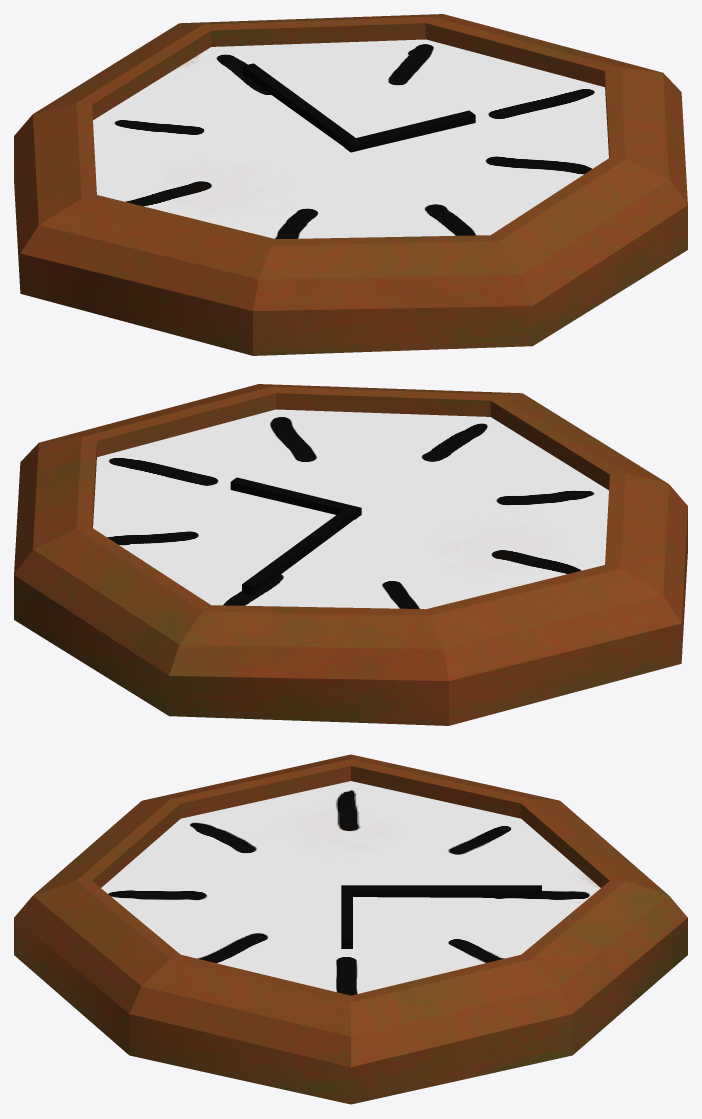
The model's file is Klock.fbx.
The picture shows the model from 3 angles, top to bottom: view 1: azimuth 30°, elevation 25°; view 2: azimuth 150°, elevation 25°; view 3: azimuth 270°, elevation 25°; orthographic projection. The views are drawn at different scales.
Parts seen in each view (by area): view 1: Klocka, Vissare1, Vissare2; view 2: Klocka, Vissare1, Vissare2; view 3: Klocka, Vissare1, Vissare2.
Boxes of the visible parts, <box> form: Klocka: <box>14,14,687,355</box>; Vissare1: <box>243,63,361,147</box>; Vissare2: <box>344,110,475,152</box>; Klocka: <box>14,384,687,725</box>; Vissare1: <box>242,509,357,595</box>; Vissare2: <box>230,477,361,519</box>; Klocka: <box>14,754,687,1104</box>; Vissare1: <box>341,885,541,898</box>; Vissare2: <box>341,885,352,948</box>.
Size of the model in its own units: 3.53 by 0.4301 by 3.36.
Materials: 3 (1 with a texture image).
